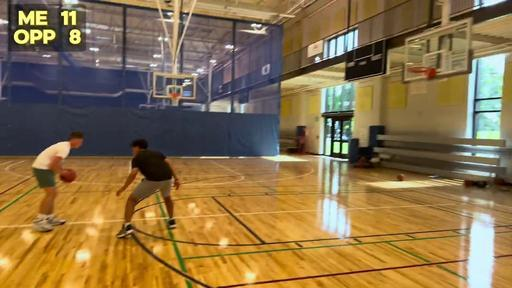ball: (59, 169, 76, 183), (396, 172, 404, 181)
human: (116, 138, 180, 238), (32, 131, 84, 232)
rim: (406, 66, 436, 94), (169, 92, 181, 106)
